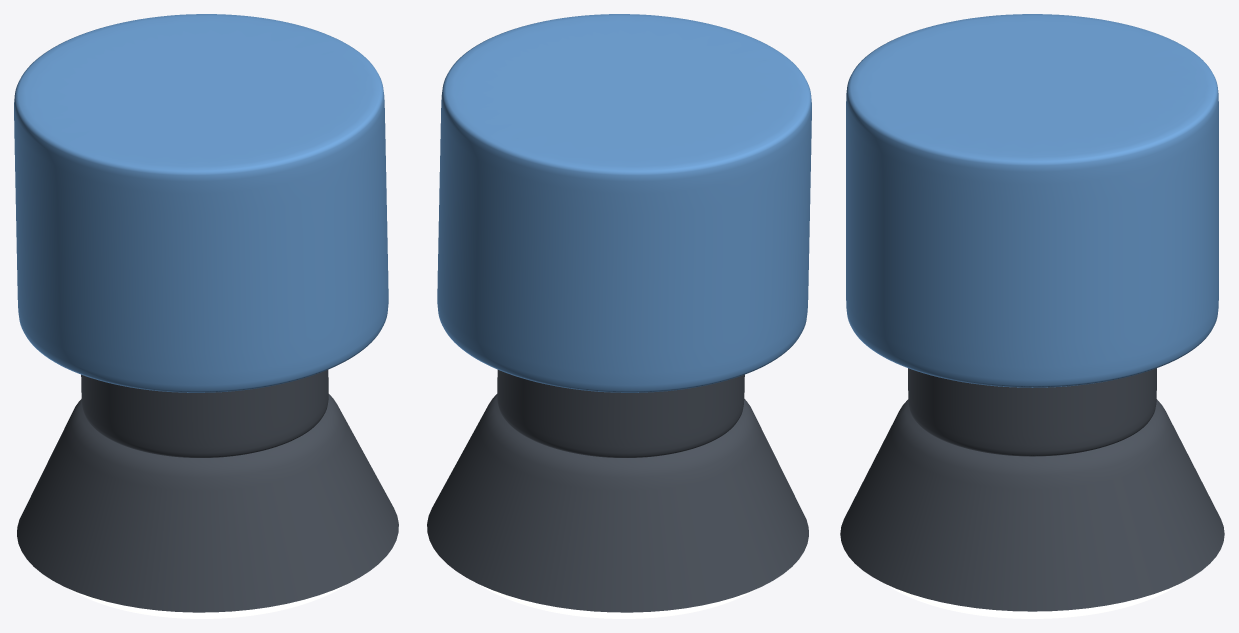
File: flashlight_R.glb
The picture shows the model from 3 angles, left to right: view 1: azimuth 30°, elevation 25°; view 2: azimuth 150°, elevation 25°; view 3: azimuth 270°, elevation 25°; orthographic projection.
Parts seen in each view (by area): view 1: ACC_flashlight_R_sleeve, ACC_flashlight_R_head, ACC_flashlight_R_neck, ACC_flashlight_R_lens; view 2: ACC_flashlight_R_sleeve, ACC_flashlight_R_head, ACC_flashlight_R_neck, ACC_flashlight_R_lens; view 3: ACC_flashlight_R_sleeve, ACC_flashlight_R_head, ACC_flashlight_R_neck, ACC_flashlight_R_lens.
Part boxes in pixels (box(x1,y1,x2,y2)): ACC_flashlight_R_sleeve: box(14, 14, 388, 392); ACC_flashlight_R_head: box(17, 394, 398, 612); ACC_flashlight_R_neck: box(81, 370, 328, 457); ACC_flashlight_R_lens: box(70, 584, 347, 618); ACC_flashlight_R_sleeve: box(437, 14, 811, 392); ACC_flashlight_R_head: box(427, 394, 808, 612); ACC_flashlight_R_neck: box(497, 370, 744, 457); ACC_flashlight_R_lens: box(478, 584, 755, 618); ACC_flashlight_R_sleeve: box(846, 14, 1218, 387); ACC_flashlight_R_head: box(840, 399, 1224, 611); ACC_flashlight_R_neck: box(908, 368, 1156, 456); ACC_flashlight_R_lens: box(886, 584, 1178, 618).
Bounding box in the file's own units: 0.3414 × 0.4533 × 0.3378.
